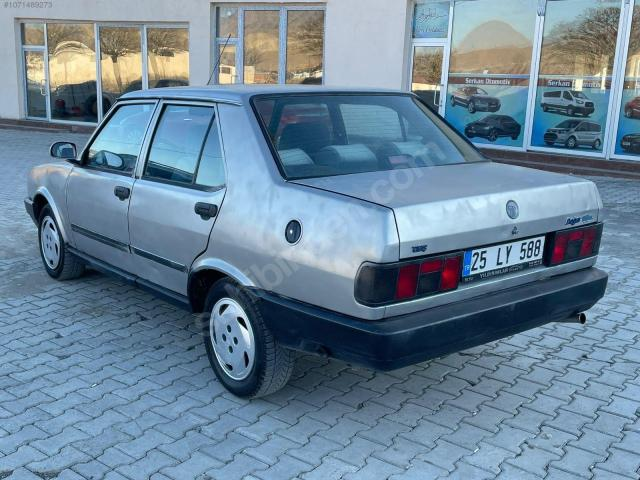plaka: (462, 237, 544, 281)
